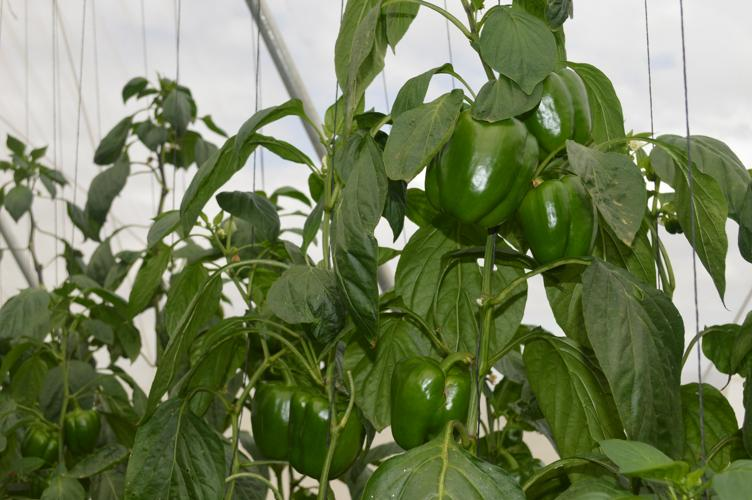BellPepper: (419, 109, 532, 229), (391, 356, 470, 450), (292, 391, 373, 480), (520, 178, 593, 268), (526, 64, 591, 154), (241, 378, 298, 457), (62, 411, 103, 450), (19, 426, 60, 464)
